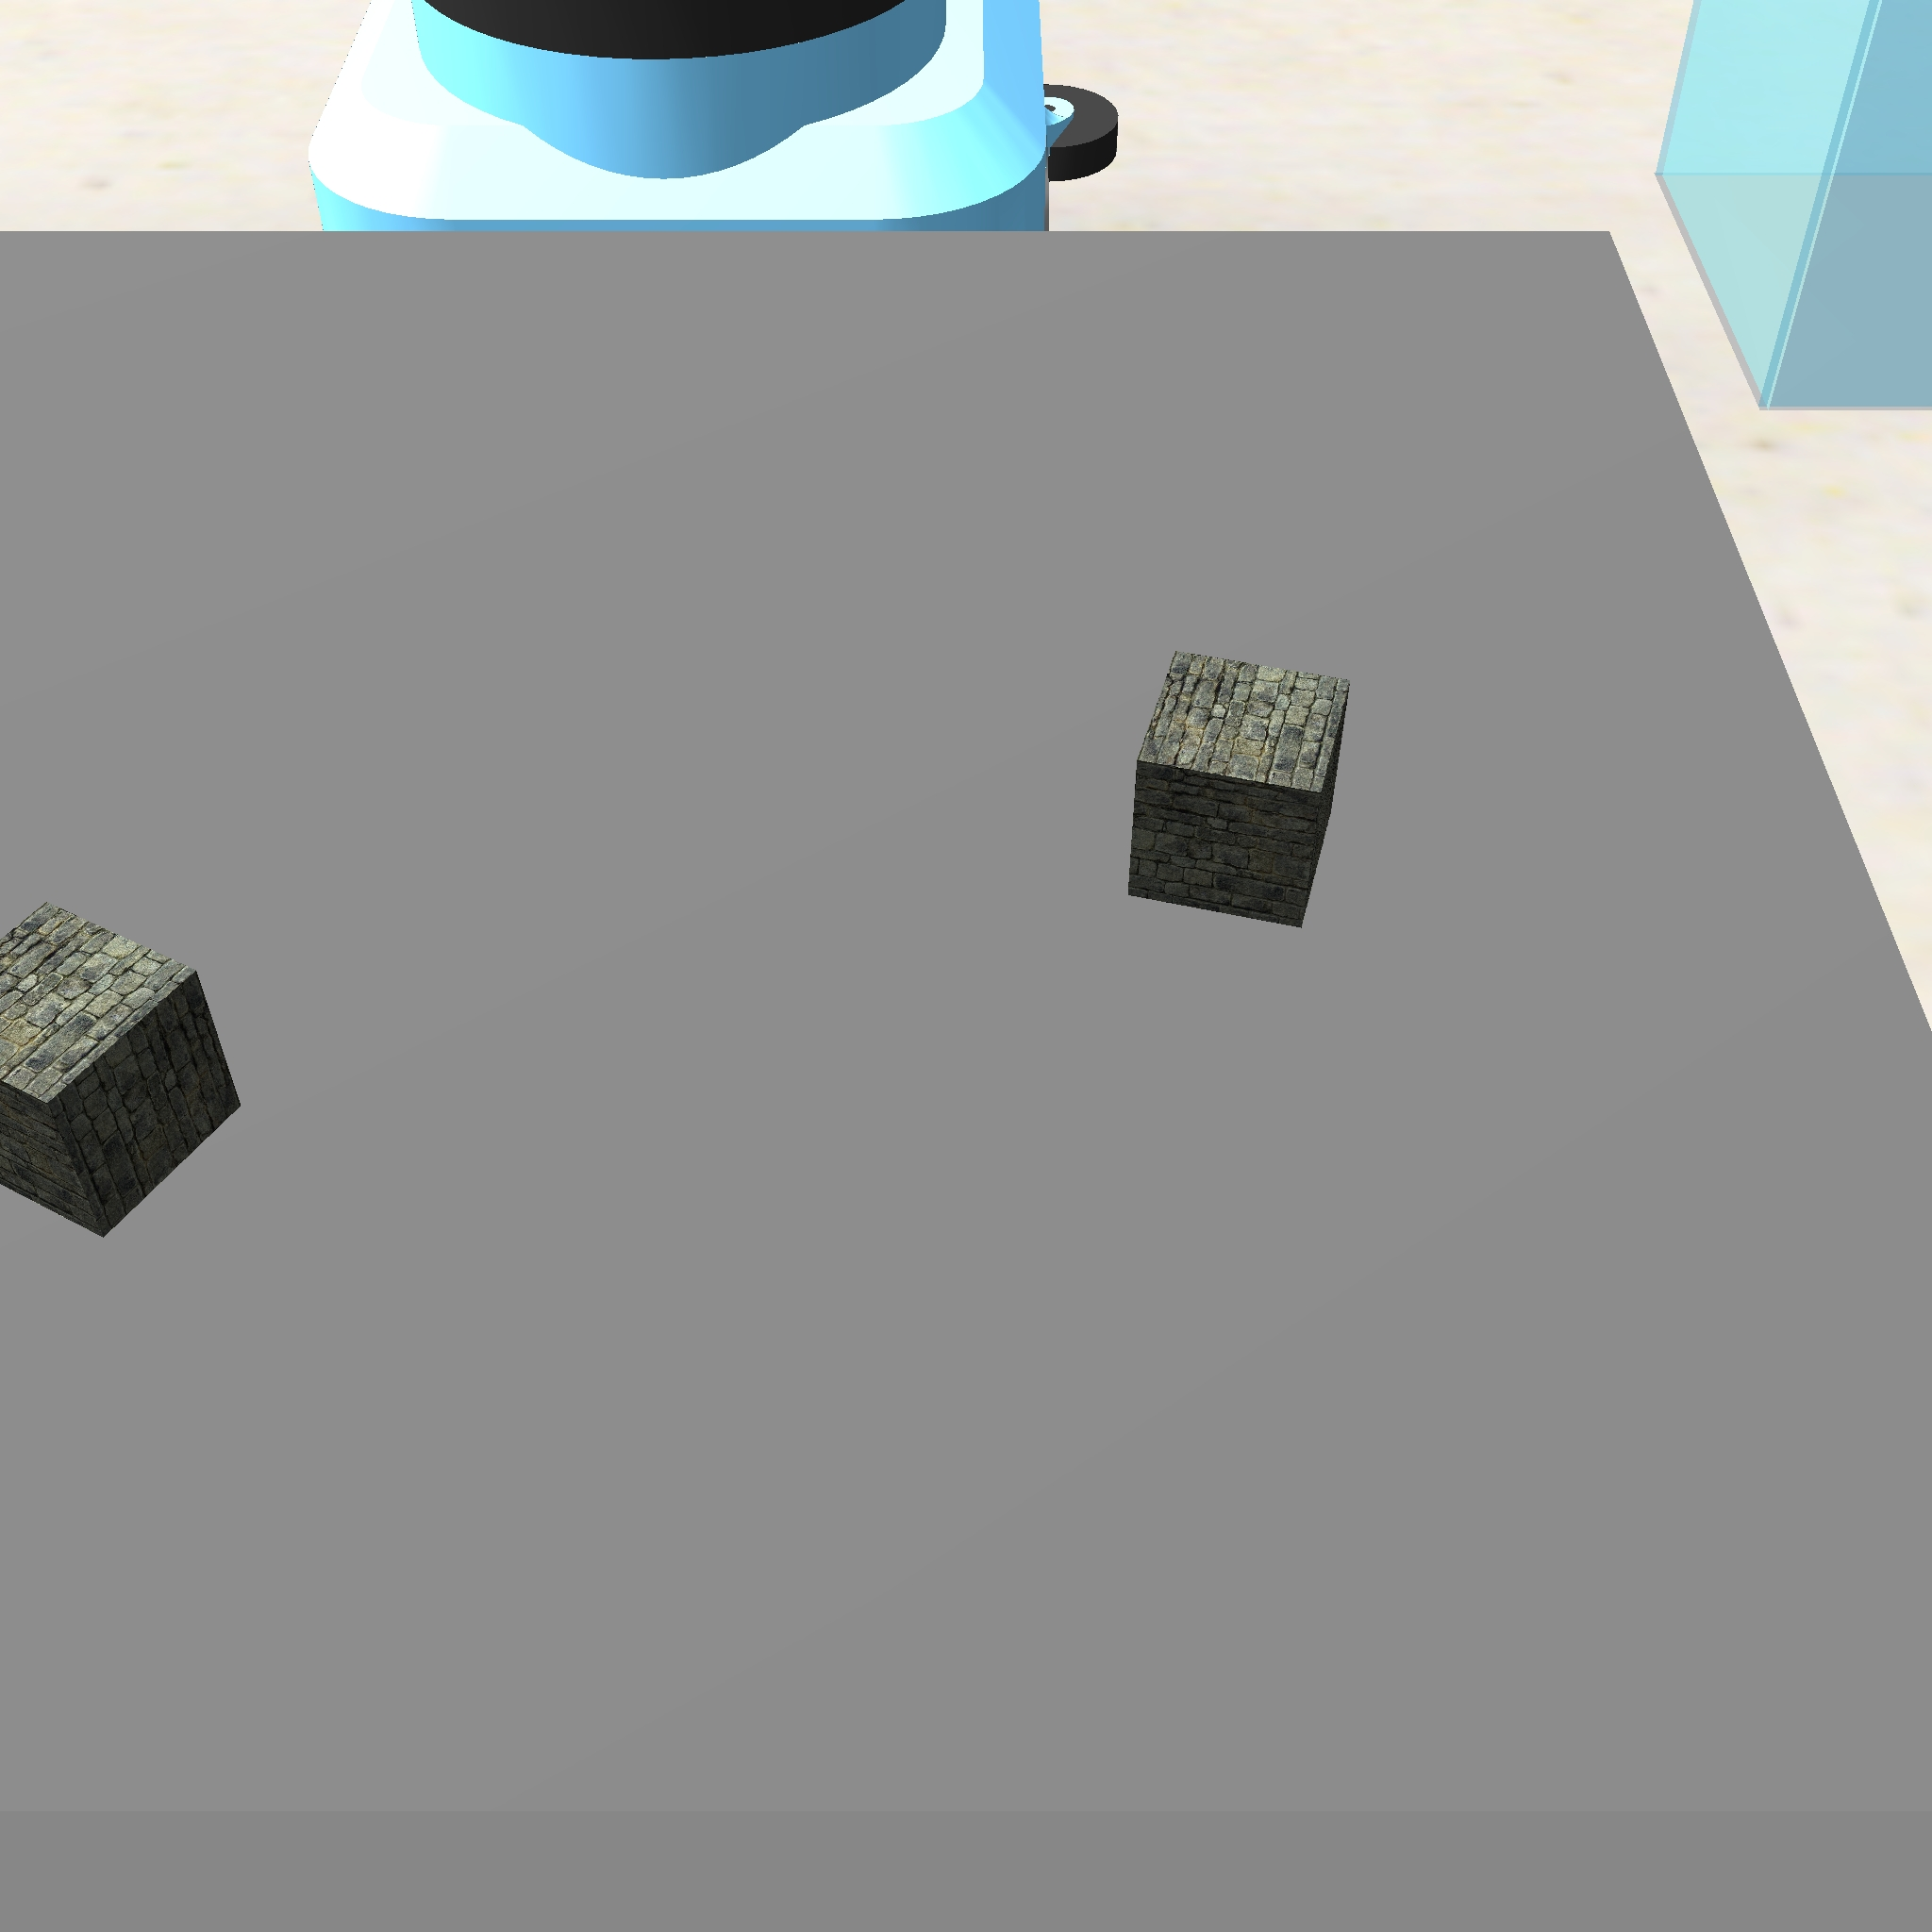cube: (0, 893, 253, 1249), (1118, 642, 1353, 931)
